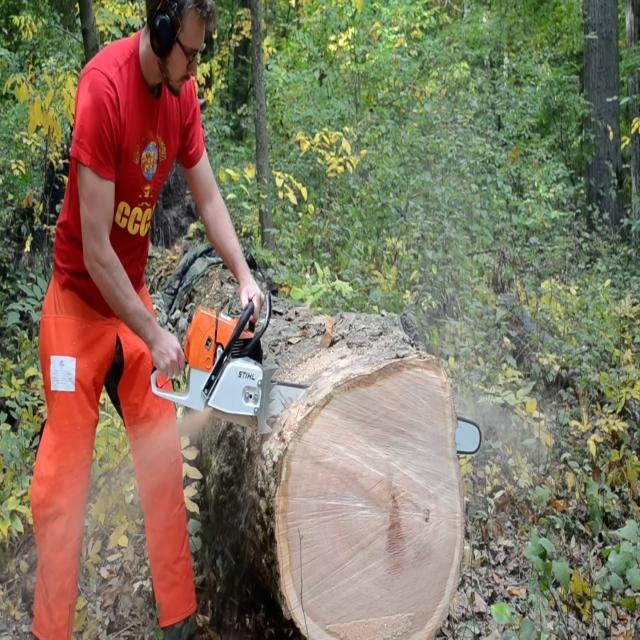Chainsaw: (140, 293, 497, 489)
